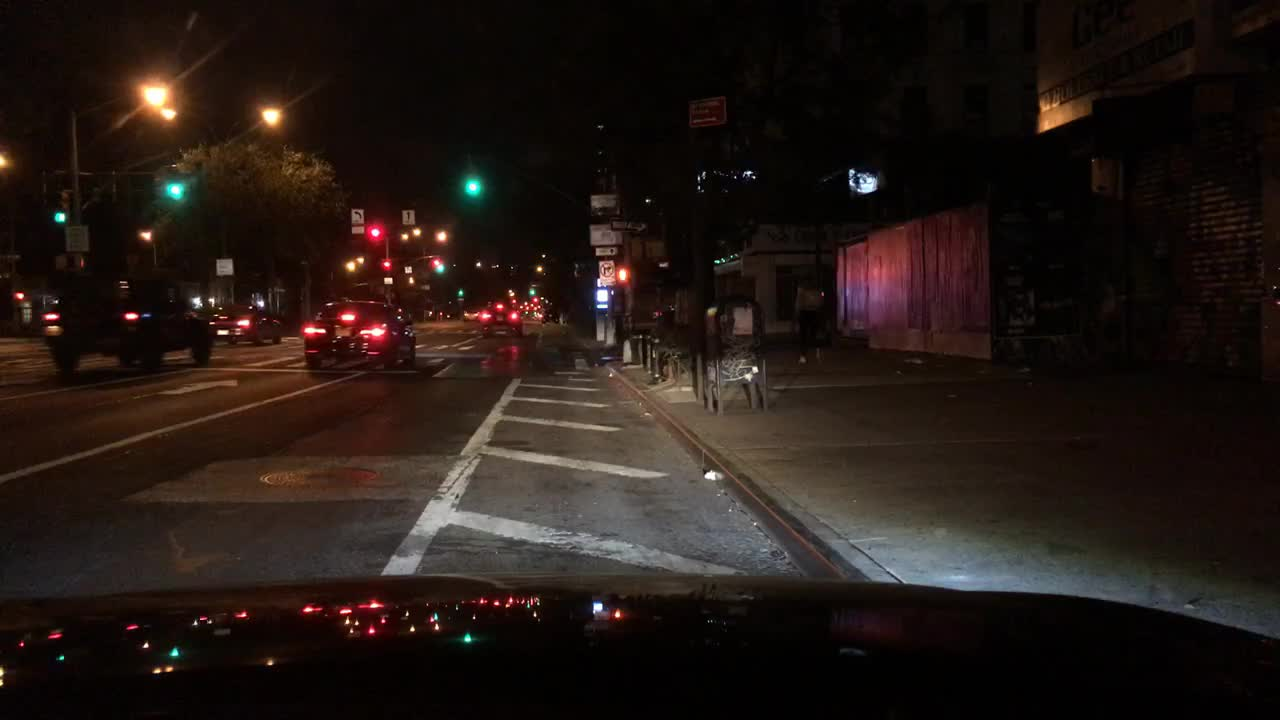car: (37, 261, 217, 374), (298, 296, 413, 369), (203, 299, 287, 350), (478, 292, 523, 341), (536, 303, 560, 325), (462, 303, 481, 325), (515, 301, 529, 322), (525, 303, 539, 318)
person: (791, 268, 834, 367), (1002, 582, 1023, 585)
traffic light: (51, 187, 72, 222), (616, 262, 632, 285), (165, 182, 182, 201), (366, 222, 383, 240), (464, 179, 478, 198), (376, 257, 394, 271), (9, 289, 27, 303), (427, 254, 441, 267), (453, 287, 469, 297), (527, 285, 537, 299)
traffic sign: (686, 91, 731, 130), (588, 222, 626, 247), (609, 215, 649, 235), (212, 255, 237, 278), (598, 259, 617, 288), (588, 189, 618, 207), (348, 208, 366, 228), (399, 207, 415, 228), (593, 247, 616, 261), (399, 262, 415, 278), (380, 273, 394, 287)
